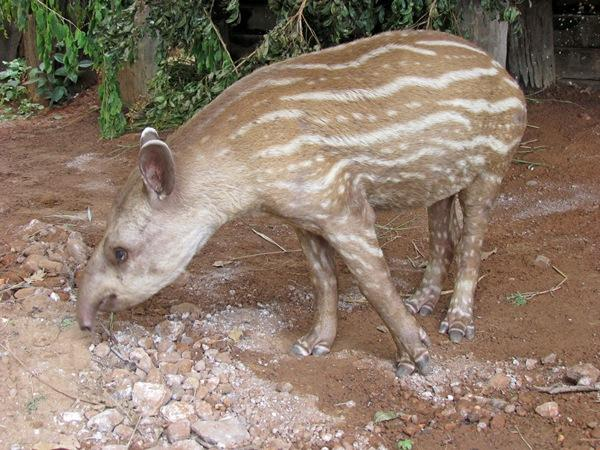Anta: (69, 26, 533, 402)
